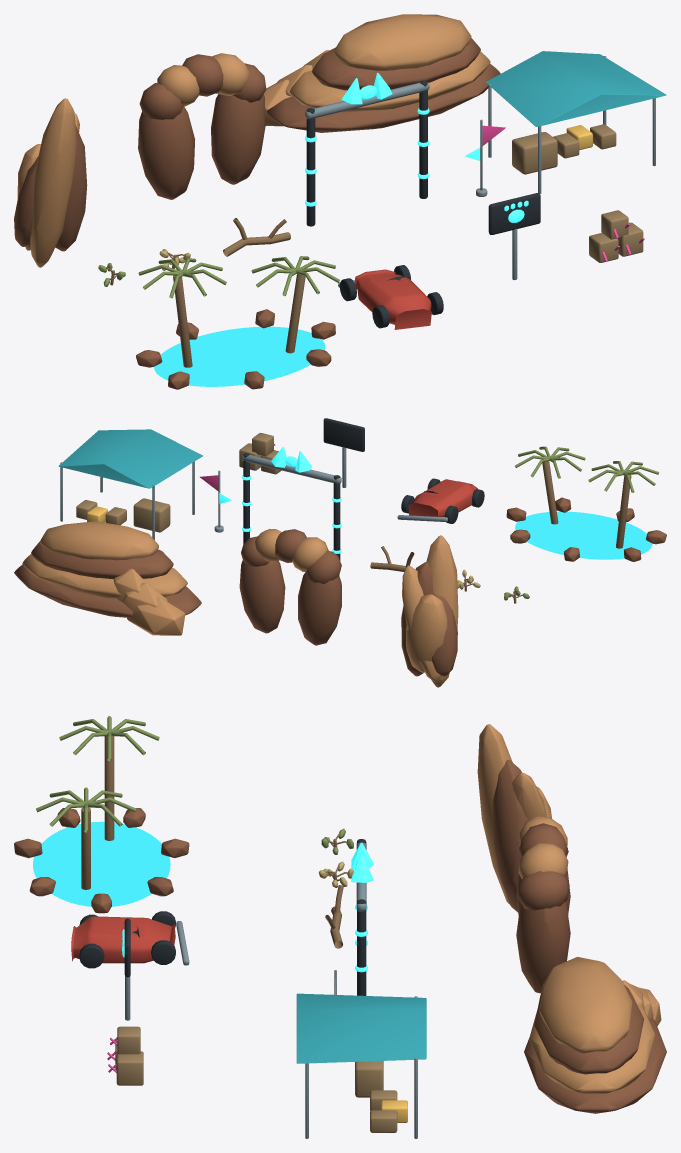
The model's file is kaki-dune-environment-kit-v1.glb.
3 renders of one model, top to bottom at view 1: azimuth 30°, elevation 25°; view 2: azimuth 150°, elevation 25°; view 3: azimuth 270°, elevation 25°, orthographic. The views are drawn at different scales.
Parts seen in each view (by area): view 1: DuneMesa_A_LOD0, DuneRockSpire_A_LOD0, Camp_Tensioned_Canopy, Oasis_Water, RockArch_Pier_L, RockArch_Pier_R, Wreck_TaperedCrushedShell, Camp_ToolChest, Sign_Plate, RockArch_Crown_4, RockArch_Crown_2, RockArch_Crown_3 (+11 smaller); view 2: DuneMesa_A_LOD0, DuneRockSpire_A_LOD0, Camp_Tensioned_Canopy, Oasis_Water, RockArch_Pier_R, RockArch_Pier_L, Wreck_TaperedCrushedShell, Sign_Plate, Camp_ToolChest, RockArch_Crown_4, RockArch_Crown_3, RockArch_Crown_2 (+8 smaller); view 3: DuneMesa_A_LOD0, Camp_Tensioned_Canopy, Oasis_Water, DuneRockSpire_A_LOD0, RockArch_Pier_R, Wreck_TaperedCrushedShell, RockArch_Crown_0, RockArch_Crown_1, Camp_ToolChest, Oasis_PalmTrunk_0, SupplyCrate_1, RockArch_Crown_2 (+4 smaller).
Part boxes in pixels (x1,y1,x2,y2): DuneMesa_A_LOD0: [263, 14, 500, 132]; DuneRockSpire_A_LOD0: [14, 98, 87, 267]; Camp_Tensioned_Canopy: [485, 51, 666, 126]; Oasis_Water: [154, 326, 325, 386]; RockArch_Pier_L: [138, 107, 195, 199]; RockArch_Pier_R: [211, 94, 265, 184]; Wreck_TaperedCrushedShell: [354, 269, 431, 329]; Camp_ToolChest: [512, 132, 557, 174]; Sign_Plate: [488, 193, 540, 234]; RockArch_Crown_4: [139, 83, 183, 119]; RockArch_Crown_2: [182, 54, 223, 96]; RockArch_Crown_3: [157, 65, 199, 106]; DuneMesa_A_LOD0: [14, 521, 201, 635]; DuneRockSpire_A_LOD0: [401, 535, 458, 687]; Camp_Tensioned_Canopy: [58, 429, 202, 488]; Oasis_Water: [515, 511, 652, 559]; RockArch_Pier_R: [239, 560, 285, 633]; RockArch_Pier_L: [298, 572, 341, 645]; Wreck_TaperedCrushedShell: [408, 479, 477, 516]; Sign_Plate: [323, 418, 364, 451]; Camp_ToolChest: [133, 498, 170, 532]; RockArch_Crown_4: [305, 550, 341, 583]; RockArch_Crown_3: [292, 537, 328, 571]; RockArch_Crown_2: [275, 529, 306, 562]; DuneMesa_A_LOD0: [524, 957, 666, 1113]; Camp_Tensioned_Canopy: [296, 993, 426, 1063]; Oasis_Water: [33, 821, 170, 906]; DuneRockSpire_A_LOD0: [477, 724, 551, 912]; RockArch_Pier_R: [516, 901, 570, 993]; Wreck_TaperedCrushedShell: [71, 916, 175, 963]; RockArch_Crown_0: [517, 871, 569, 910]; RockArch_Crown_1: [518, 843, 568, 878]; Camp_ToolChest: [355, 1061, 383, 1097]; Oasis_PalmTrunk_0: [104, 736, 114, 840]; SupplyCrate_1: [116, 1051, 143, 1085]; RockArch_Crown_2: [519, 823, 567, 856].
Size of what is drawn, in the model's own units: 29.73 by 8.53 by 25.13.
